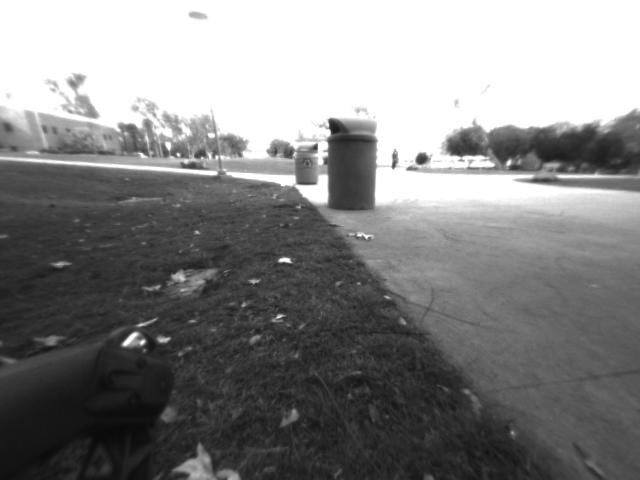trashcan: (320, 111, 390, 221)
